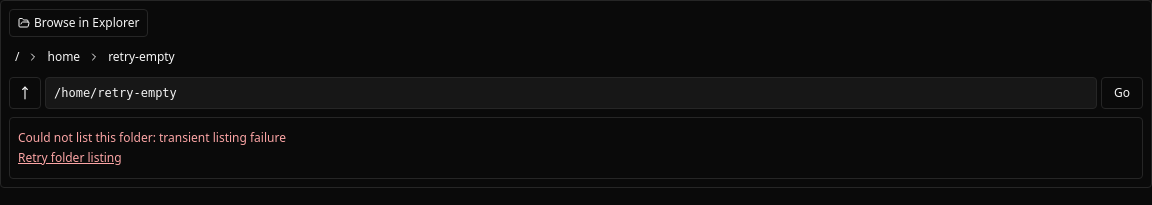
Test: WslFolderPicker › retries a same-path listing failure into a valid empty result
Expected: the text "Could not list this folder:" is shown, top-left (18, 129), bottom-right (159, 146)
Expected: the number of messages is 1, top-left (18, 129), bottom-right (286, 166)
Click the button "Retry folder listing" at (70, 158), box top-left (18, 150), bottom-right (122, 166)
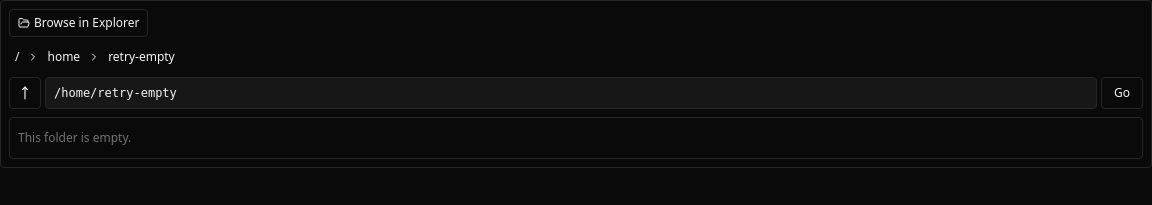
Result: the text "This folder is empty." is shown at top-left (18, 129), bottom-right (131, 146)
Result: the message "Could not list this folder: transient listing failure Retry folder listing" is gone
